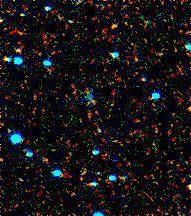star: (96, 17, 126, 47)
